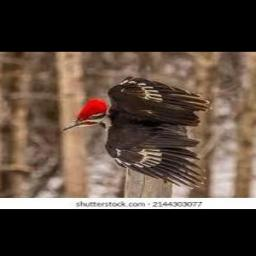Woodpecker: (63, 76, 211, 189)
